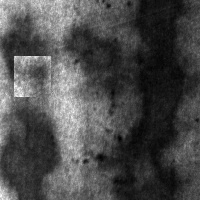patches: (130, 1, 197, 161), (100, 127, 179, 199), (1, 106, 60, 199), (63, 26, 128, 107), (1, 13, 47, 88), (14, 56, 51, 97)
